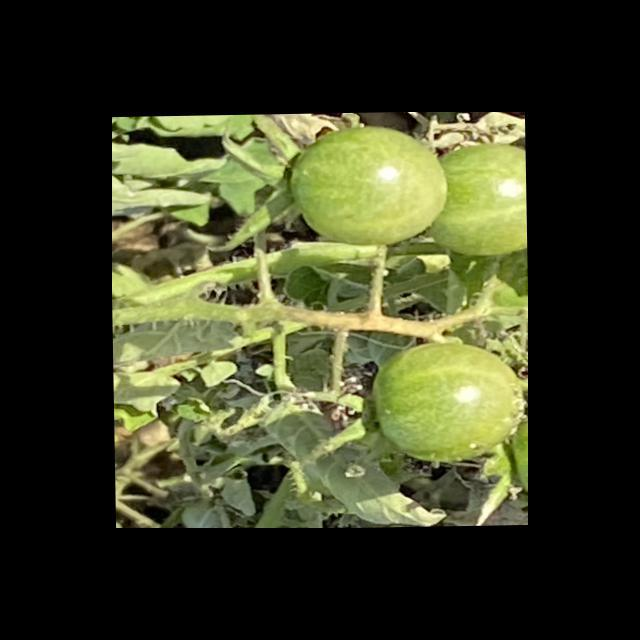tomato: (284, 124, 450, 248), (370, 343, 516, 463), (427, 142, 526, 258)
